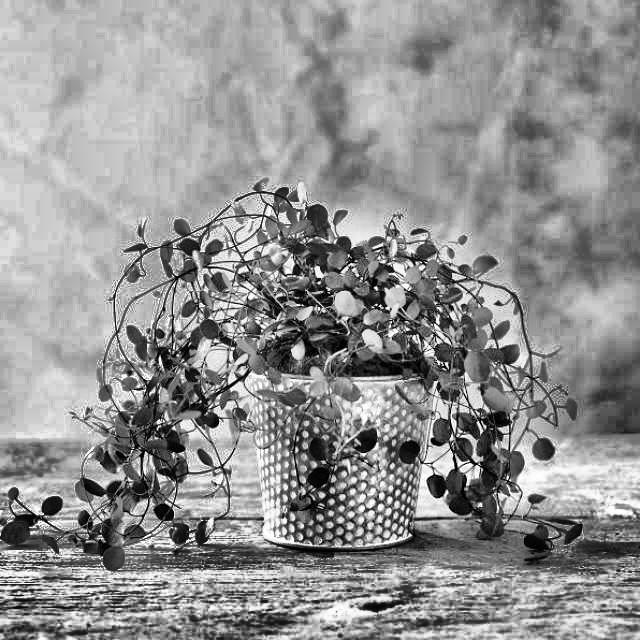plants: (177, 176, 510, 366), (39, 338, 208, 540)
